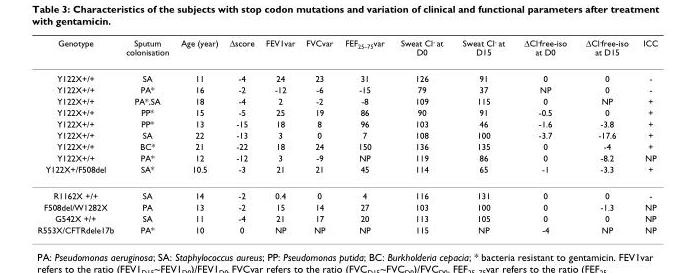table: (36, 36, 657, 234)
table column: (36, 36, 119, 234), (513, 36, 575, 234), (391, 36, 452, 234), (452, 36, 513, 234), (575, 36, 635, 234), (119, 36, 174, 234), (338, 36, 391, 234), (174, 36, 223, 234), (259, 36, 299, 234), (299, 36, 338, 234), (223, 36, 259, 234), (635, 36, 657, 234)
table column header: (36, 36, 657, 64)
table row: (36, 36, 657, 64), (36, 64, 657, 83), (36, 163, 657, 182), (36, 182, 657, 201), (36, 94, 657, 106), (36, 117, 657, 129), (36, 151, 657, 163), (36, 83, 657, 94), (36, 106, 657, 117), (36, 129, 657, 140), (36, 140, 657, 151), (36, 201, 657, 212), (36, 212, 657, 223), (36, 223, 657, 234)
